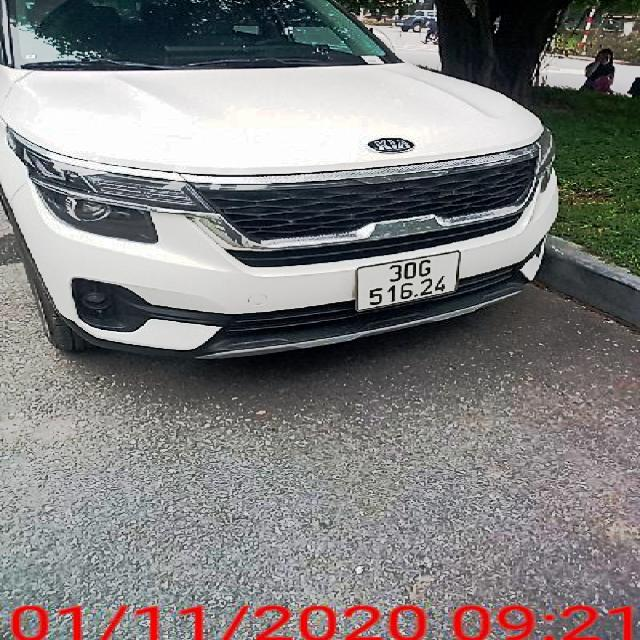license_plate: (359, 253, 461, 310)
